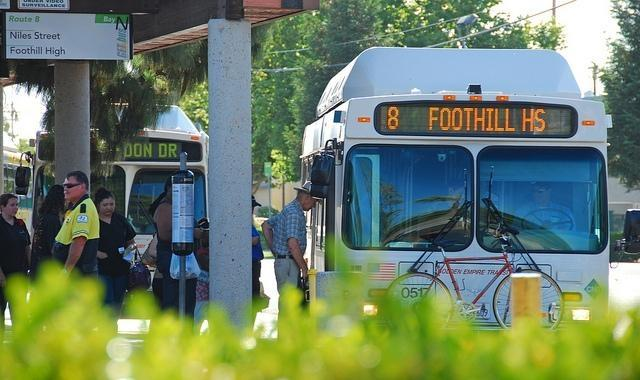bicycle: (388, 220, 564, 330), (511, 232, 542, 270)
bus: (299, 49, 616, 331), (15, 106, 208, 276)
